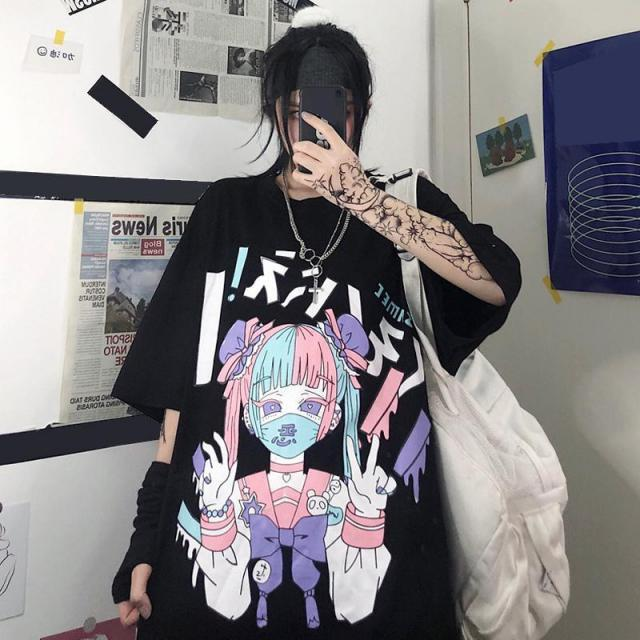Shirt: (114, 168, 524, 640)
